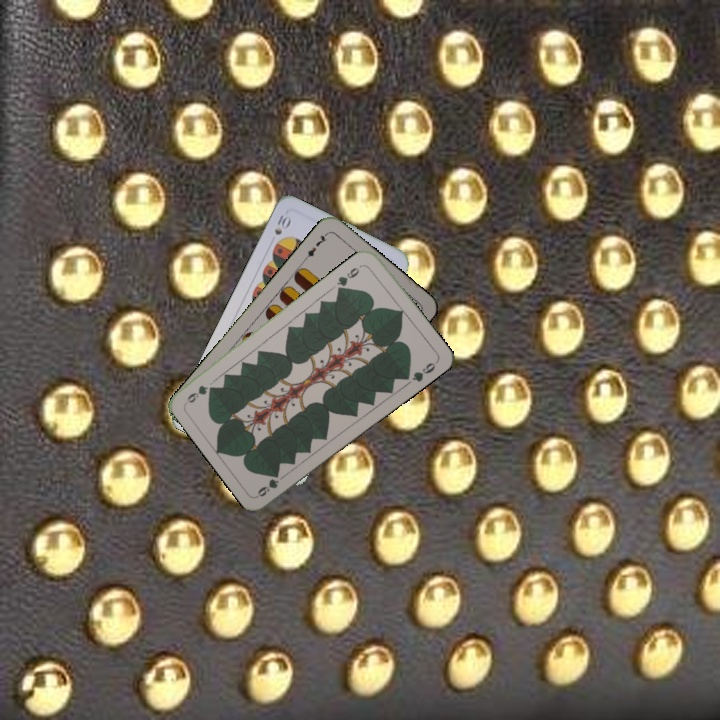E7: (300, 229, 330, 263)
G9: (333, 260, 366, 292), (253, 468, 282, 499)
S10: (270, 209, 294, 238)
